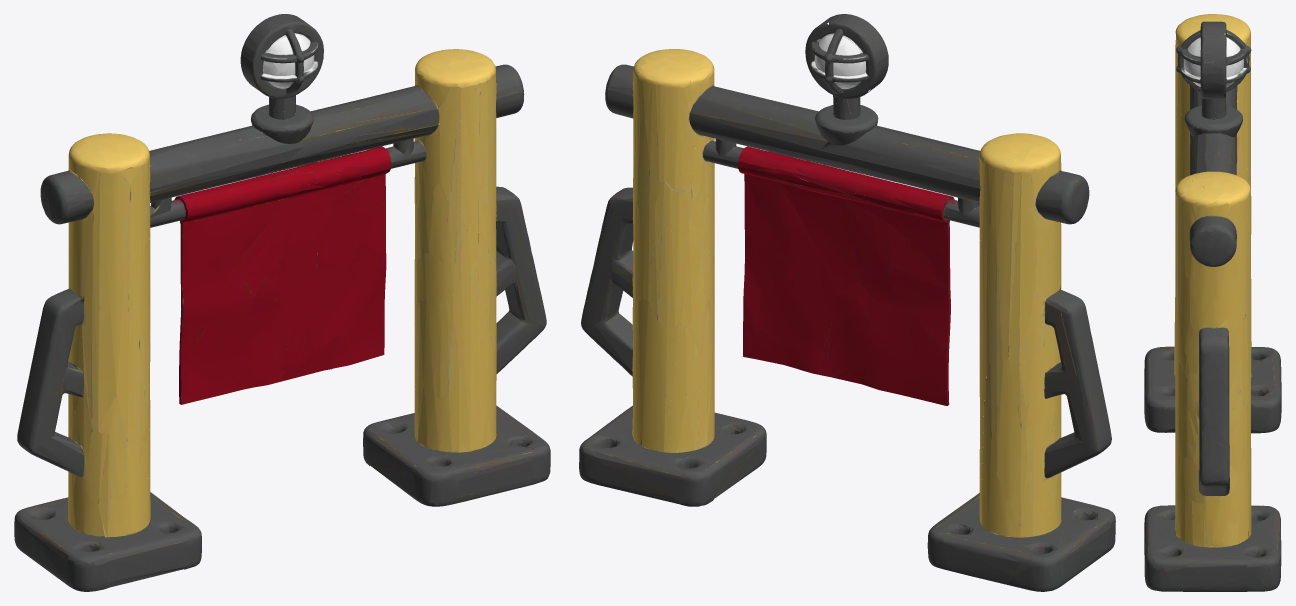
The model's file is flag_big_v1.glb.
The picture shows the model from 3 angles, left to right: view 1: azimuth 30°, elevation 25°; view 2: azimuth 150°, elevation 25°; view 3: azimuth 270°, elevation 25°; orthographic projection. The views are drawn at different scales.
Parts seen in each view (by area): view 1: pole_geo, banner_p1, lamp_p2; view 2: pole_geo, banner_p1, lamp_p2; view 3: pole_geo, lamp_p2, banner_p1.
Part boxes in pixels (x1,y1,x2,y2): pole_geo: [14, 49, 550, 591]; banner_p1: [142, 90, 461, 523]; lamp_p2: [87, 14, 477, 156]; pole_geo: [579, 49, 1115, 591]; banner_p1: [669, 136, 986, 524]; lamp_p2: [654, 14, 1042, 155]; pole_geo: [1144, 14, 1281, 591]; lamp_p2: [1176, 18, 1251, 191]; banner_p1: [1180, 85, 1247, 181].
Size of the model in its own units: 4.2 by 3.8 by 1.03.
1 material, 1 textured.
